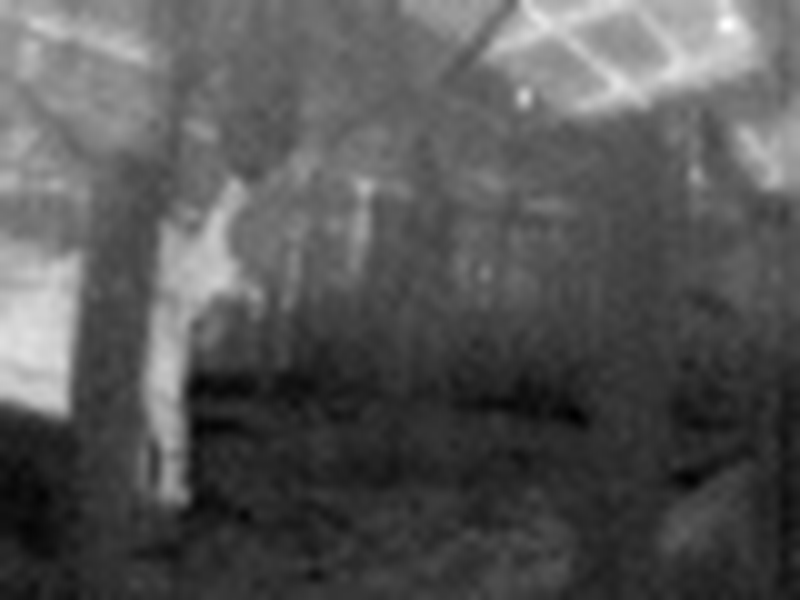elephant: (1, 171, 235, 481)
